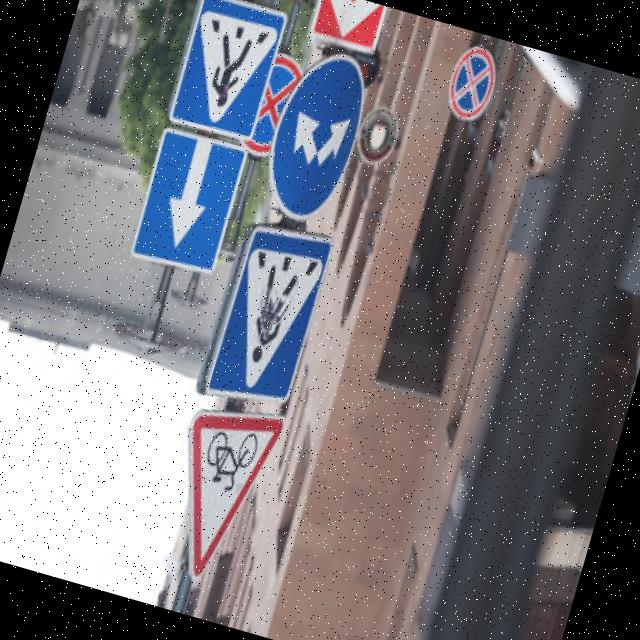crosswalk: (164, 0, 289, 143)
no_parking: (433, 29, 510, 137)
